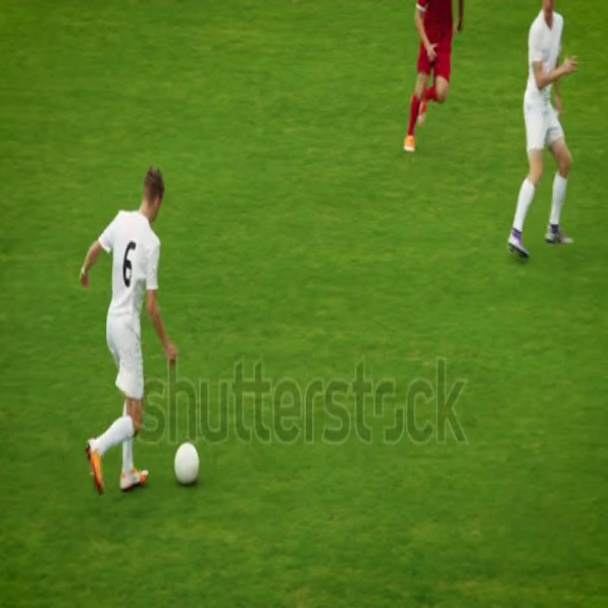ball: (171, 439, 202, 487)
